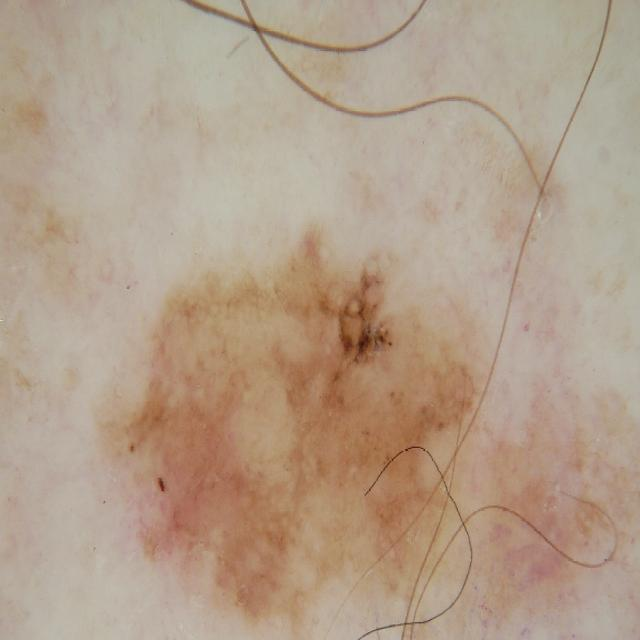Melanoma: (61, 183, 583, 640)
